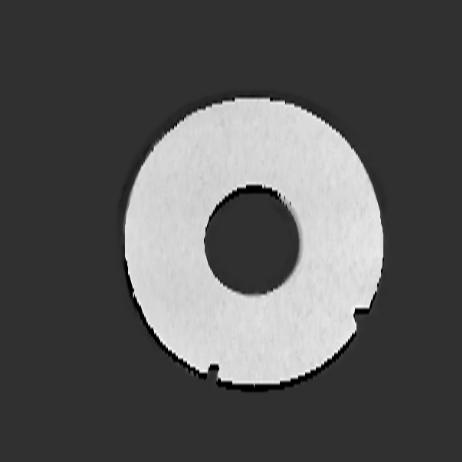defect: (353, 305, 370, 327), (205, 363, 221, 380)
